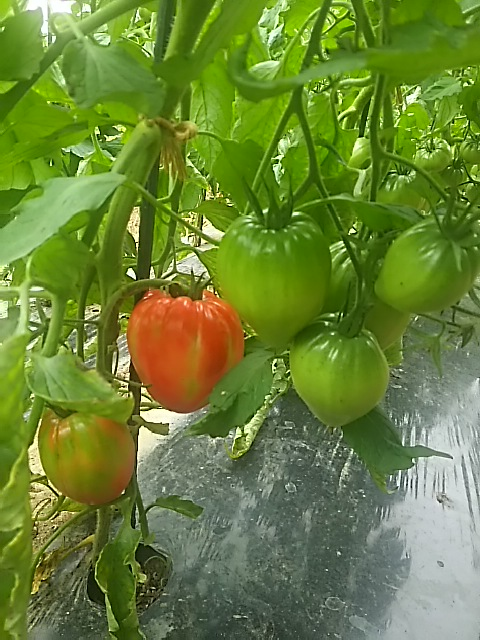stems: (267, 177, 311, 222), (346, 272, 366, 342)
tomato: (216, 206, 332, 351), (129, 288, 245, 415), (288, 313, 389, 429), (371, 217, 480, 314), (39, 405, 133, 503), (327, 240, 407, 351)
